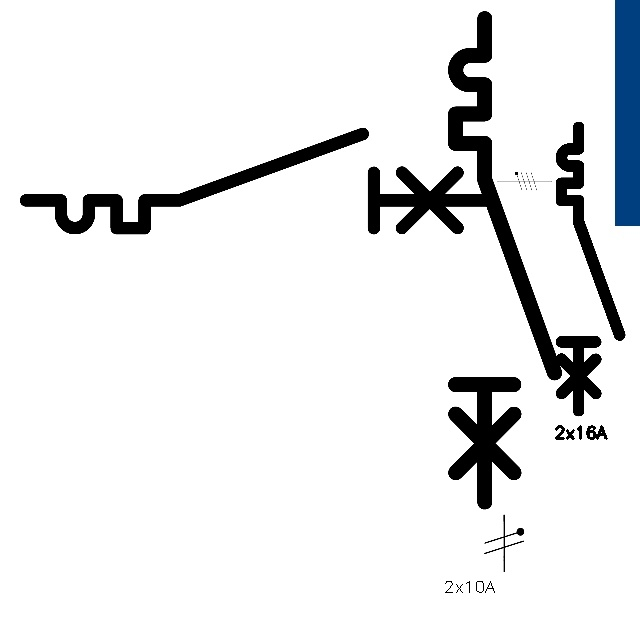interruptor_termomagnetico: (443, 6, 567, 515), (14, 122, 497, 240), (554, 120, 627, 418)
